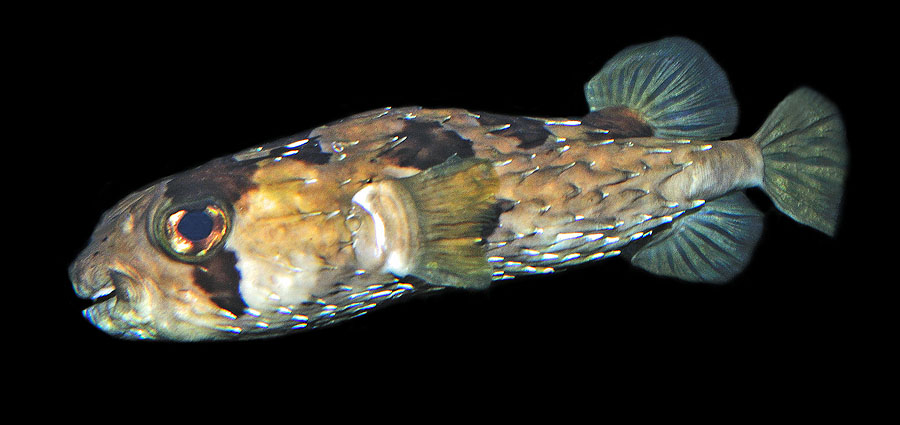Diodon_holocanthus: (50, 7, 878, 403)
